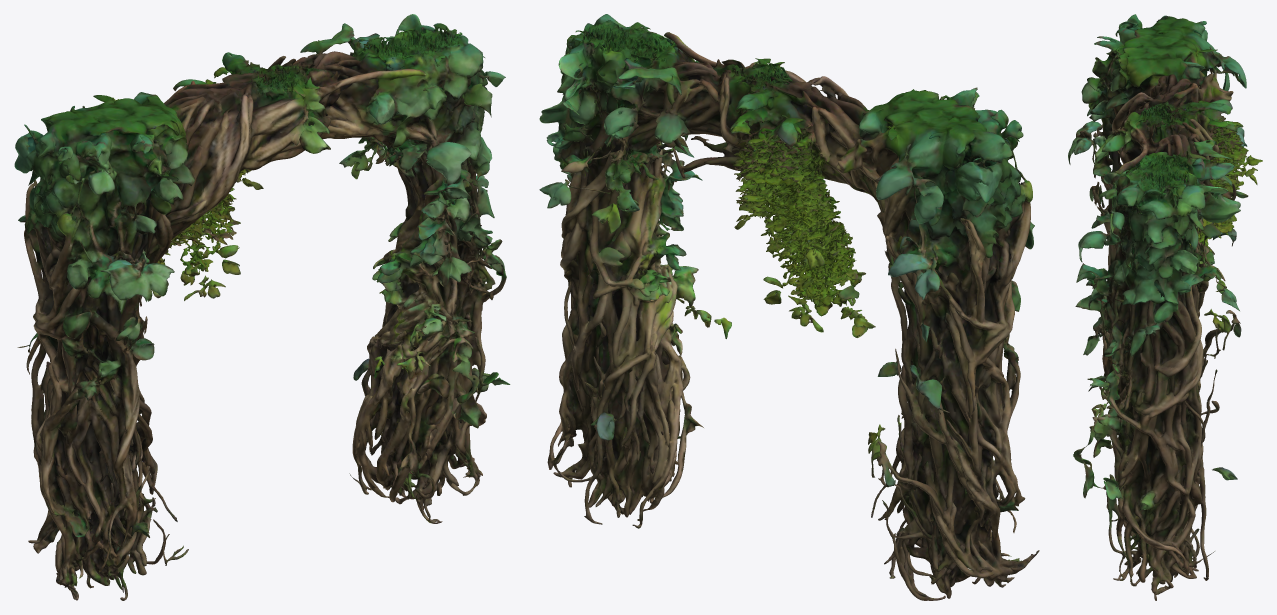
Rendered from Meshy_AI_A_large_arch_made_fr_1016091236_texture.fbx.
The picture shows the model from 3 angles, left to right: view 1: azimuth 30°, elevation 25°; view 2: azimuth 150°, elevation 25°; view 3: azimuth 270°, elevation 25°; orthographic projection. The views are drawn at different scales.
Parts seen in each view (by area): view 1: Mesh_0; view 2: Mesh_0; view 3: Mesh_0.
Boxes of the visible parts, x1=… form: Mesh_0: x1=14, y1=14, x2=510, y2=600; Mesh_0: x1=539, y1=14, x2=1039, y2=600; Mesh_0: x1=1068, y1=14, x2=1262, y2=600.
Bounding box in the file's own units: 200 × 200 × 85.07.
Materials: 1 (1 with a texture image).
